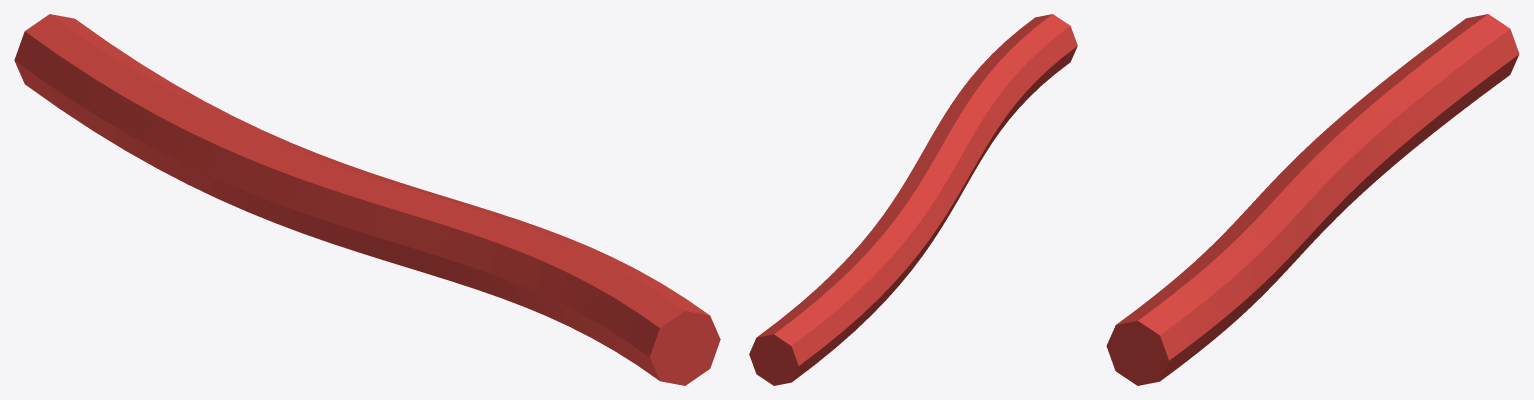
The model's file is motor_red_lead_to_splice_3.glb.
3 views of the same model, side by side, from view 1: azimuth 30°, elevation 25°; view 2: azimuth 150°, elevation 25°; view 3: azimuth 330°, elevation 25° (orthographic). The views are drawn at different scales.
Visible parts, largest first — view 1: motor_red_lead_to_splice_3; view 2: motor_red_lead_to_splice_3; view 3: motor_red_lead_to_splice_3.
Boxes of the visible parts, x1=… form: motor_red_lead_to_splice_3: x1=14, y1=14, x2=720, y2=385; motor_red_lead_to_splice_3: x1=749, y1=14, x2=1077, y2=385; motor_red_lead_to_splice_3: x1=1106, y1=14, x2=1519, y2=385.
Bounding box in the file's own units: 4.45 × 2.95 × 21.39.
